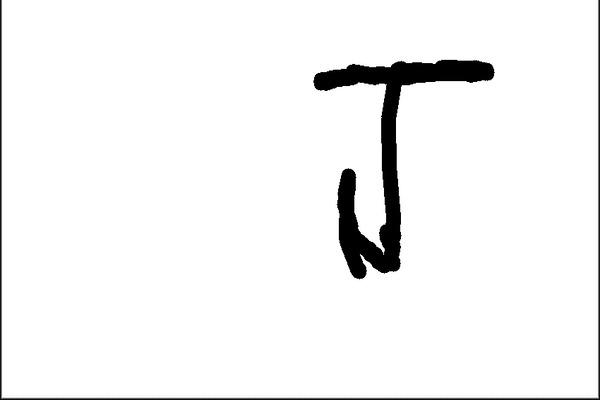J: (305, 48, 499, 284)
